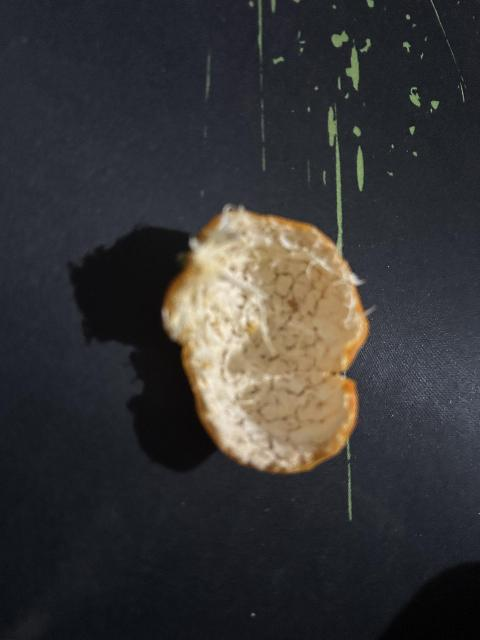Organik: (156, 205, 367, 479)
